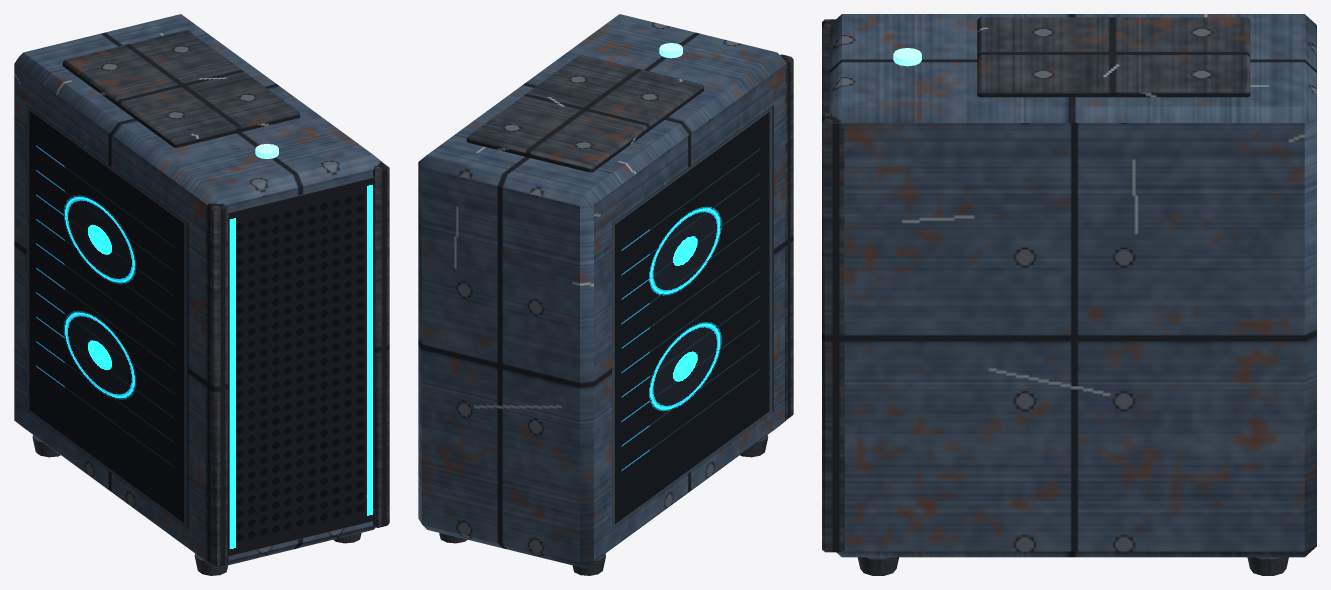
File: gaming_pc_tower_cyber.glb
3 views of the same model, side by side, from view 1: azimuth 30°, elevation 25°; view 2: azimuth 150°, elevation 25°; view 3: azimuth 270°, elevation 25° (orthographic). The views are drawn at different scales.
Parts seen in each view (by area): view 1: torre_pc; view 2: torre_pc; view 3: torre_pc.
Boxes of the visible parts, bbox=[...] form: torre_pc: bbox=[14, 14, 389, 575]; torre_pc: bbox=[418, 14, 793, 575]; torre_pc: bbox=[822, 14, 1316, 575].
Bounding box in the file's own units: 0.2444 × 0.518 × 0.4875.
4 materials, 3 textured.
